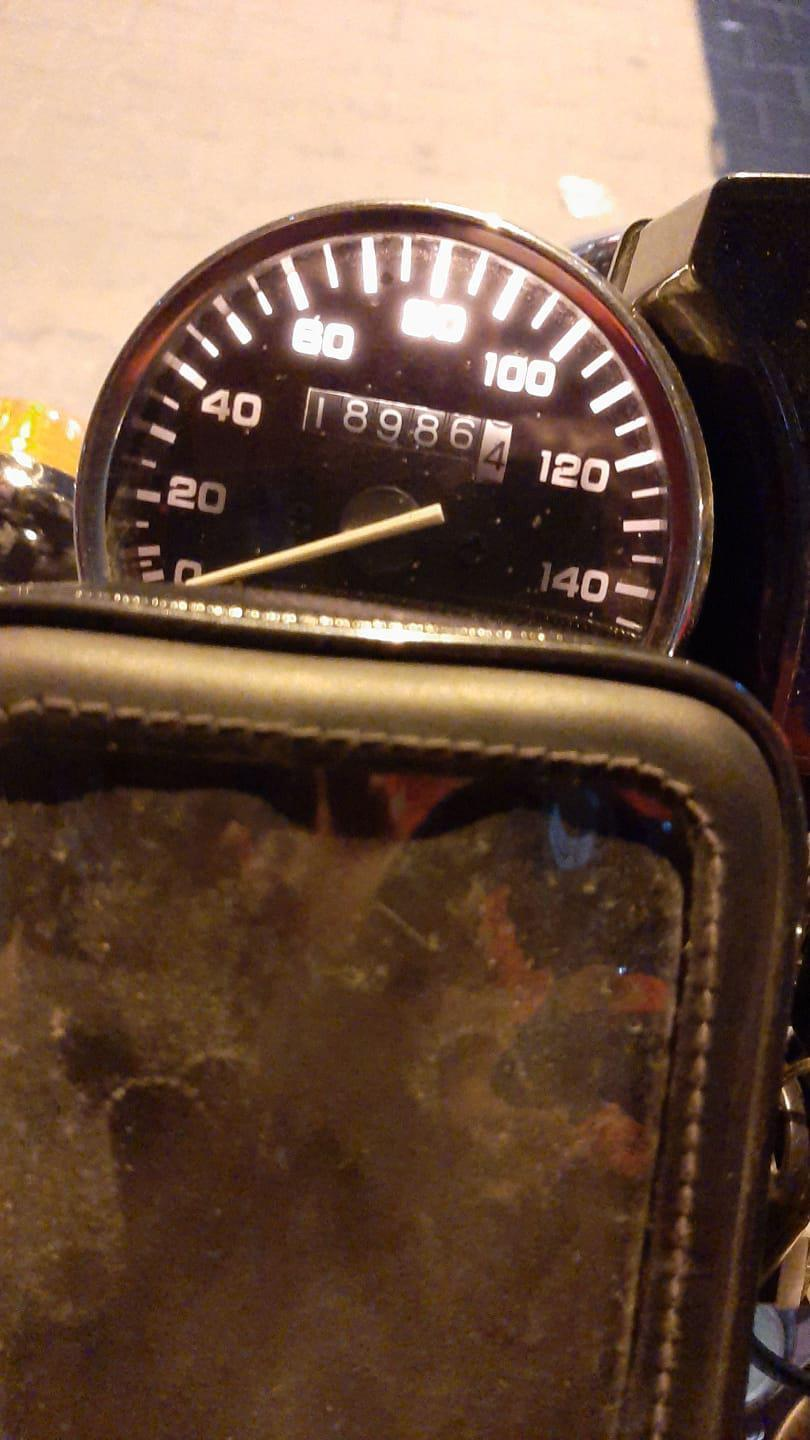1: (312, 394, 330, 431)
4: (484, 438, 505, 473)
6: (450, 416, 476, 452)
8: (412, 412, 440, 449), (342, 397, 368, 435)
9: (376, 407, 402, 444)
odometer: (298, 383, 516, 489)
